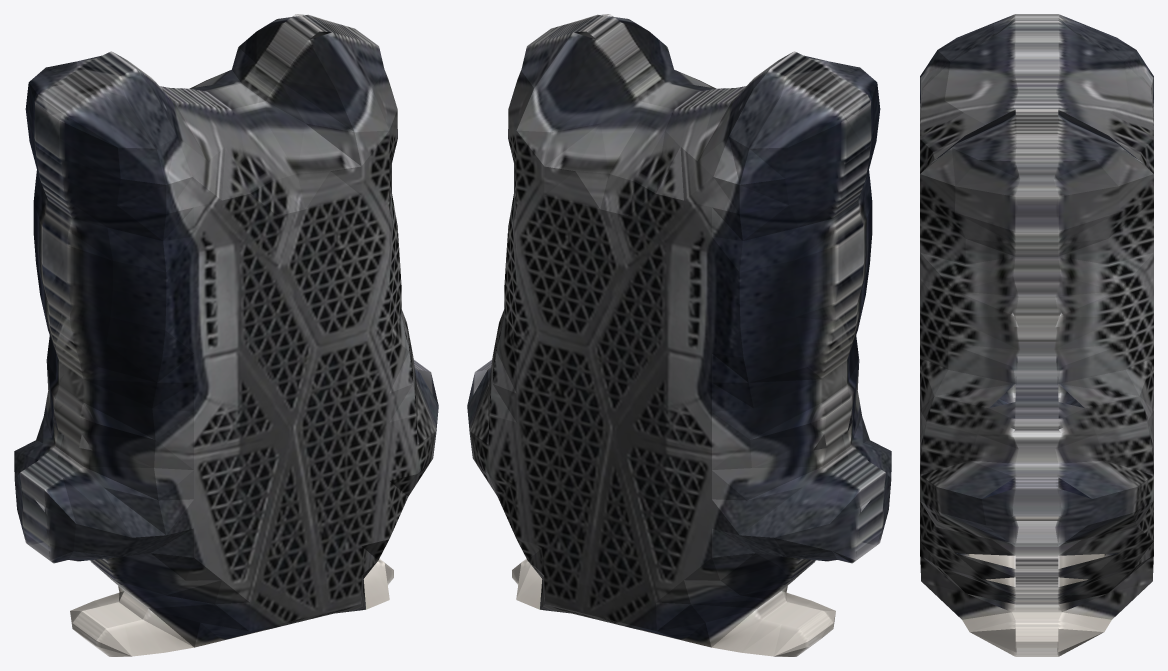
File: shoei-circuit-body-armor-179.glb
The picture shows the model from 3 angles, left to right: view 1: azimuth 30°, elevation 25°; view 2: azimuth 150°, elevation 25°; view 3: azimuth 270°, elevation 25°; orthographic projection. The views are drawn at different scales.
Parts seen in each view (by area): view 1: world; view 2: world; view 3: world.
Boxes of the visible parts, <box> form: world: <box>14,14,438,656</box>; world: <box>467,14,891,656</box>; world: <box>920,14,1153,656</box>.
Bounding box in the file's own units: 0.6865 × 1 × 0.4.
Materials: 1 (1 with a texture image).
